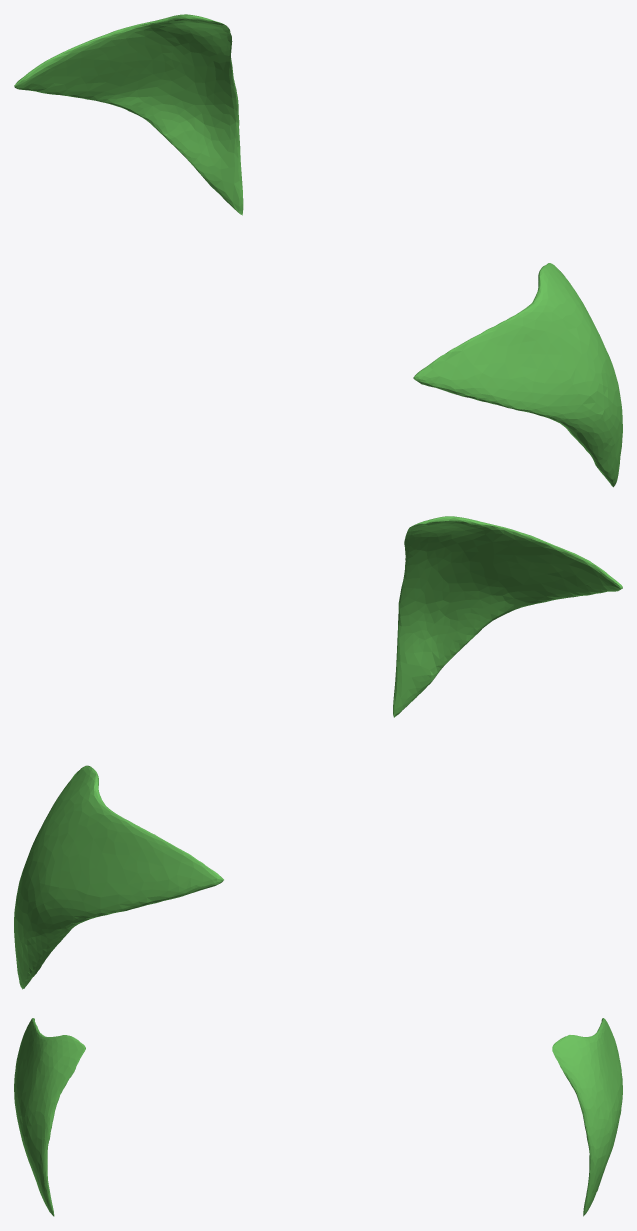
3 renders of one model, top to bottom at view 1: azimuth 30°, elevation 25°; view 2: azimuth 150°, elevation 25°; view 3: azimuth 270°, elevation 25°, orthographic. The views are drawn at different scales.
Visible parts, largest first — view 1: 1121.obj; view 2: 1121.obj; view 3: 1121.obj.
Boxes of the visible parts, x1=… form: 1121.obj: x1=14, y1=14, x2=622, y2=487; 1121.obj: x1=14, y1=516, x2=622, y2=989; 1121.obj: x1=14, y1=1018, x2=622, y2=1216.
Bounding box in the file's own units: 2969 × 2923 × 10093.
